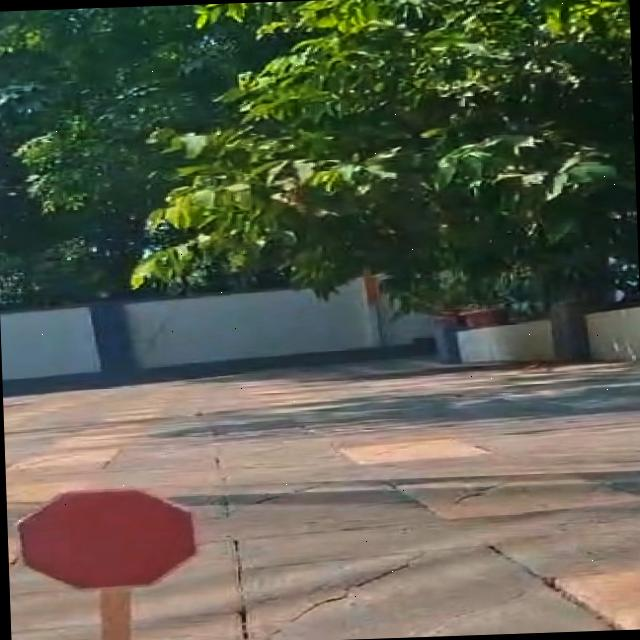Stop: (5, 478, 226, 602)
